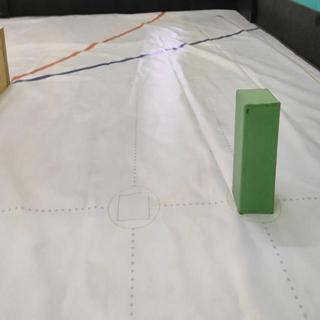greenbox: (233, 87, 283, 214)
